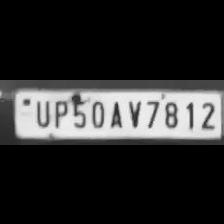0: (88, 96, 106, 128)
1: (181, 98, 197, 130)
2: (196, 98, 218, 130)
5: (70, 94, 86, 128)
7: (140, 96, 160, 128)
8: (160, 97, 182, 129)
A: (106, 97, 124, 128)
P: (50, 96, 68, 128)
U: (31, 96, 51, 128)
V: (122, 96, 142, 128)
